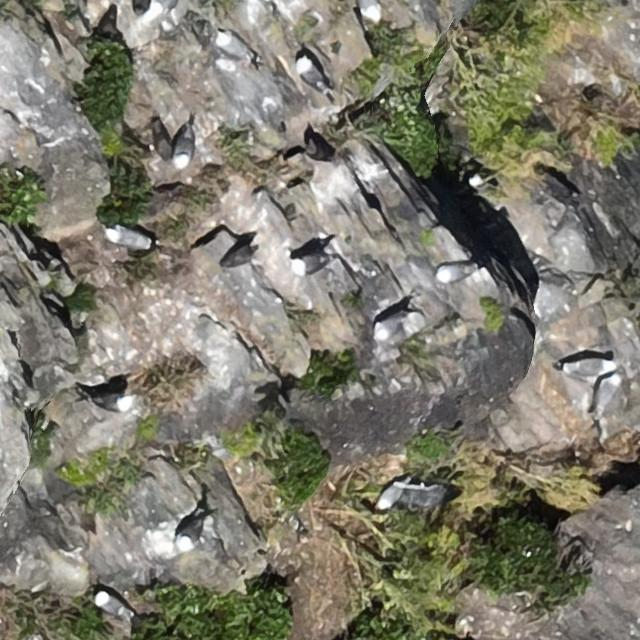umineko: (586, 374, 620, 428), (104, 224, 156, 251), (178, 512, 210, 553), (172, 125, 196, 175), (95, 392, 137, 413), (568, 358, 610, 378), (218, 35, 250, 61), (290, 257, 332, 275), (375, 314, 405, 337), (298, 58, 322, 86), (94, 592, 121, 615), (378, 482, 401, 508), (439, 264, 468, 282), (360, 1, 381, 21)
